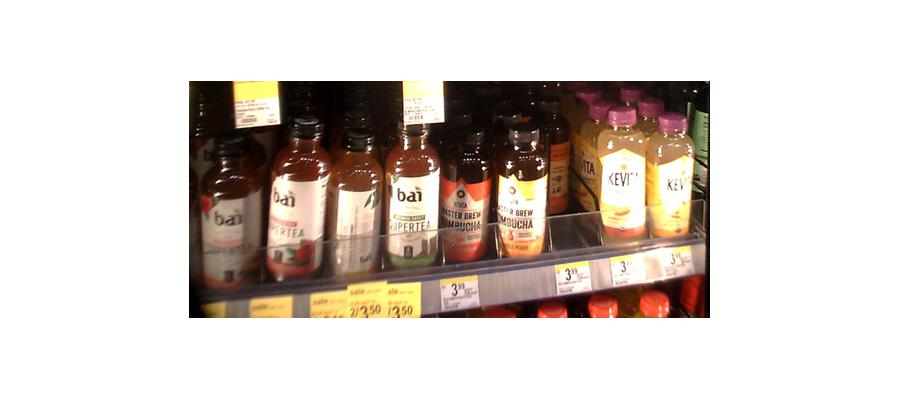bottle: (265, 114, 330, 287), (200, 136, 265, 292), (384, 109, 440, 275), (496, 107, 555, 261), (438, 118, 493, 266), (330, 124, 382, 275), (598, 106, 648, 243), (649, 107, 694, 243)
